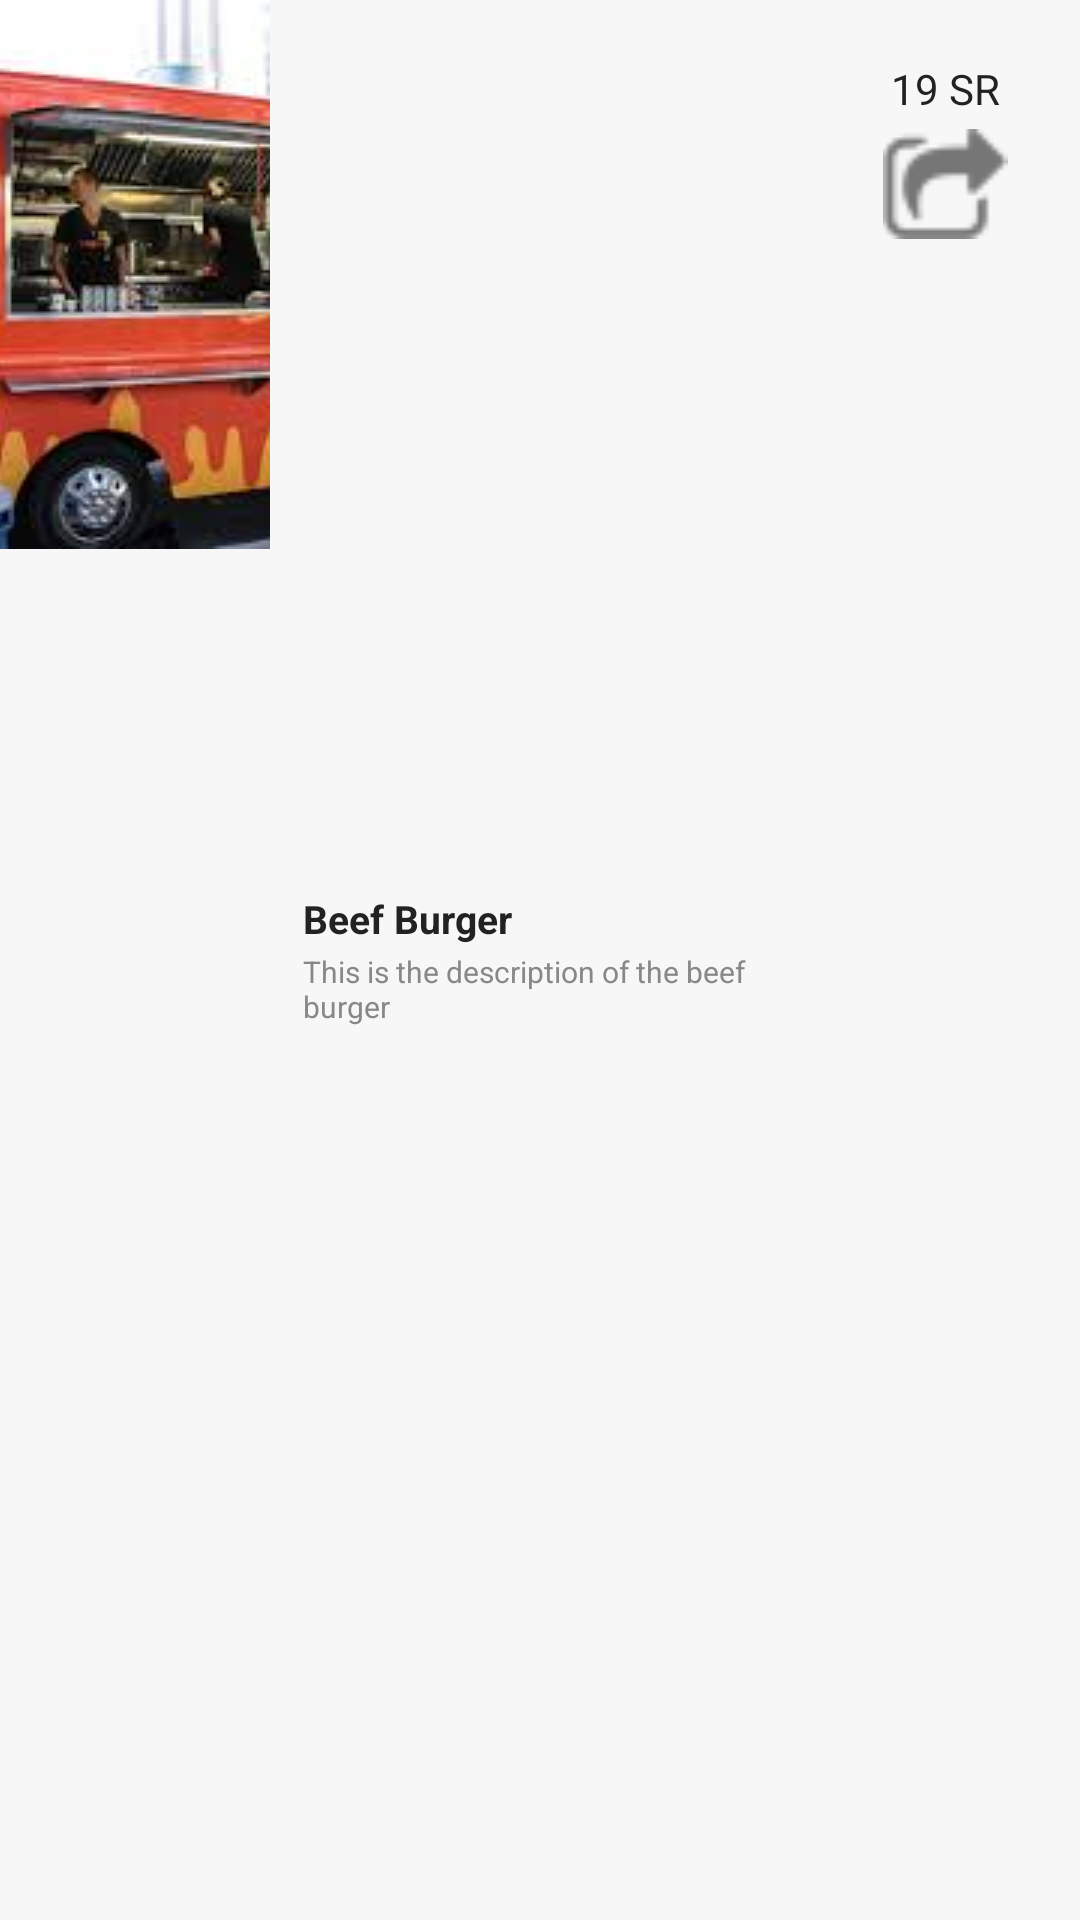

Icons on this 1080 x 1920 Android screen, each with the point to tap as (x=x, y=y):
share: (x=945, y=184)
